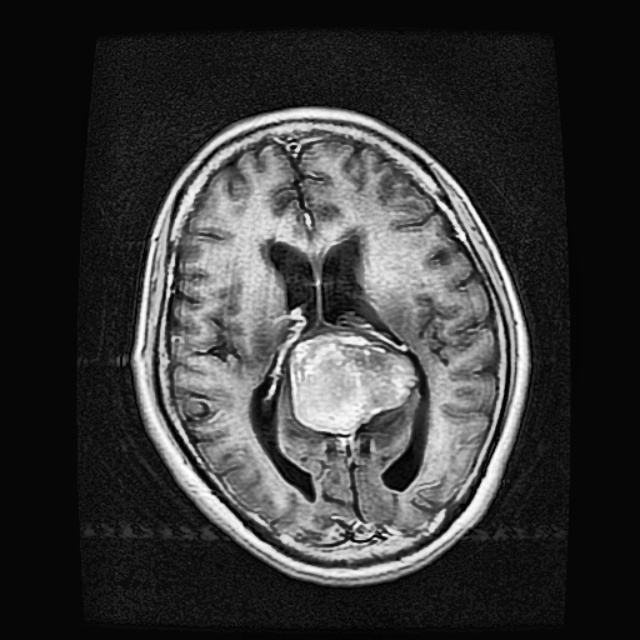Glioma: (289, 333, 418, 434)
